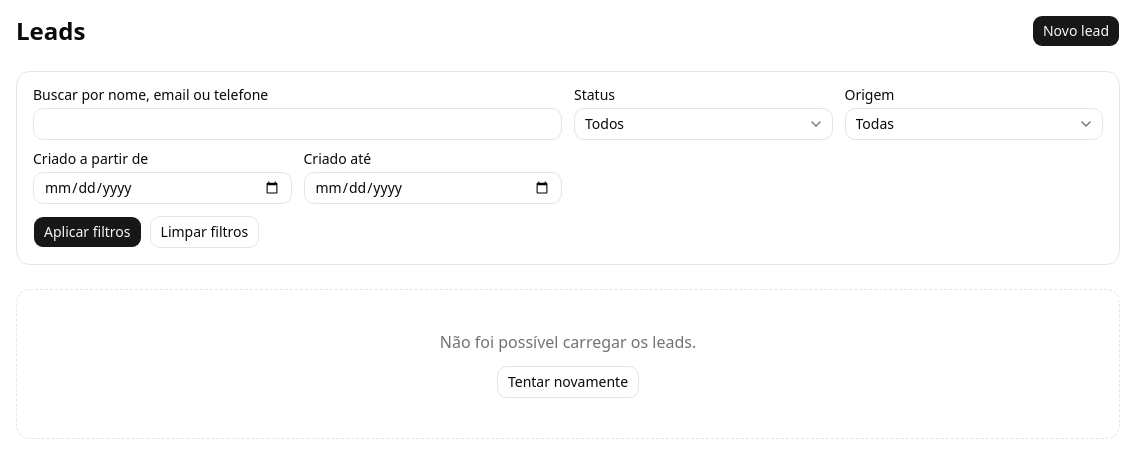
Scenario: LeadsPage › shows an error state and retries
Expected: the text "Não foi possível carregar os leads." is shown, [440,330,696,354]
Click the button "Tentar novamente" at (568, 382), box [497,366,639,398]
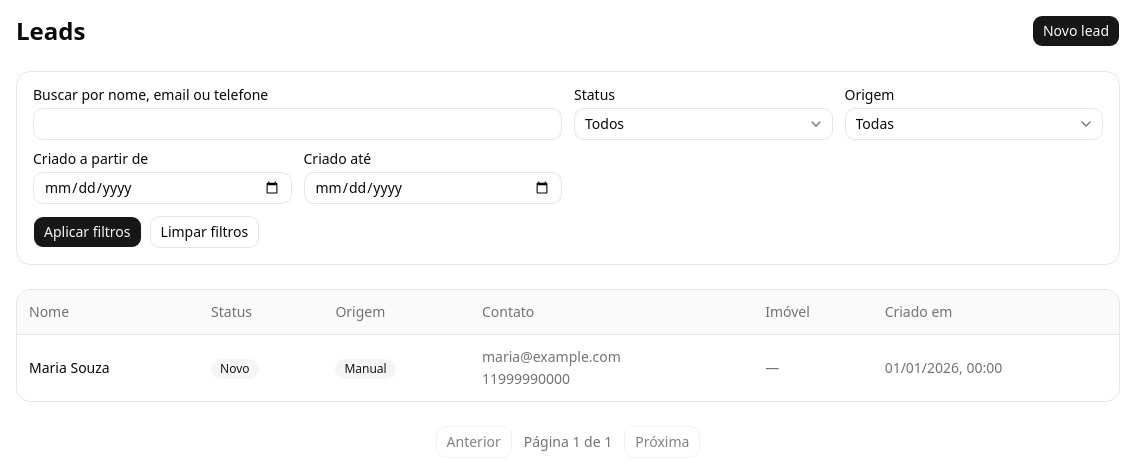
Expected: the link "Maria Souza" is shown, [29,358,110,377]
